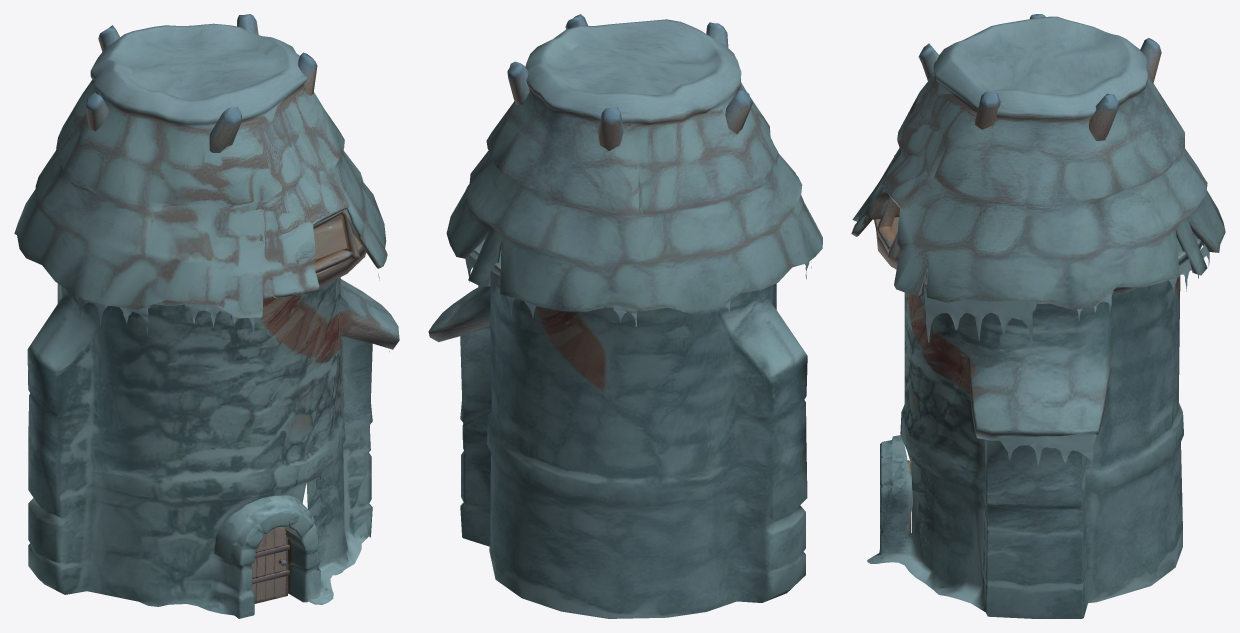
File: 019e98c5-514d-7daa-89e5-75369803e2f0.glb
3 views of the same model, side by side, from view 1: azimuth 30°, elevation 25°; view 2: azimuth 150°, elevation 25°; view 3: azimuth 270°, elevation 25° (orthographic). The views are drawn at different scales.
Parts seen in each view (by area): view 1: tripo_node_a49ed14e-cfa7-4795-bace-cfc14fe673d0; view 2: tripo_node_a49ed14e-cfa7-4795-bace-cfc14fe673d0; view 3: tripo_node_a49ed14e-cfa7-4795-bace-cfc14fe673d0.
Boxes of the visible parts, left/top/right/bottom form: tripo_node_a49ed14e-cfa7-4795-bace-cfc14fe673d0: left=14, top=14, right=399, bottom=618; tripo_node_a49ed14e-cfa7-4795-bace-cfc14fe673d0: left=428, top=14, right=822, bottom=618; tripo_node_a49ed14e-cfa7-4795-bace-cfc14fe673d0: left=851, top=14, right=1225, bottom=618.
Size of the model in its own units: 0.7168 by 0.998 by 0.6855.
Materials: 1 (1 with a texture image).
